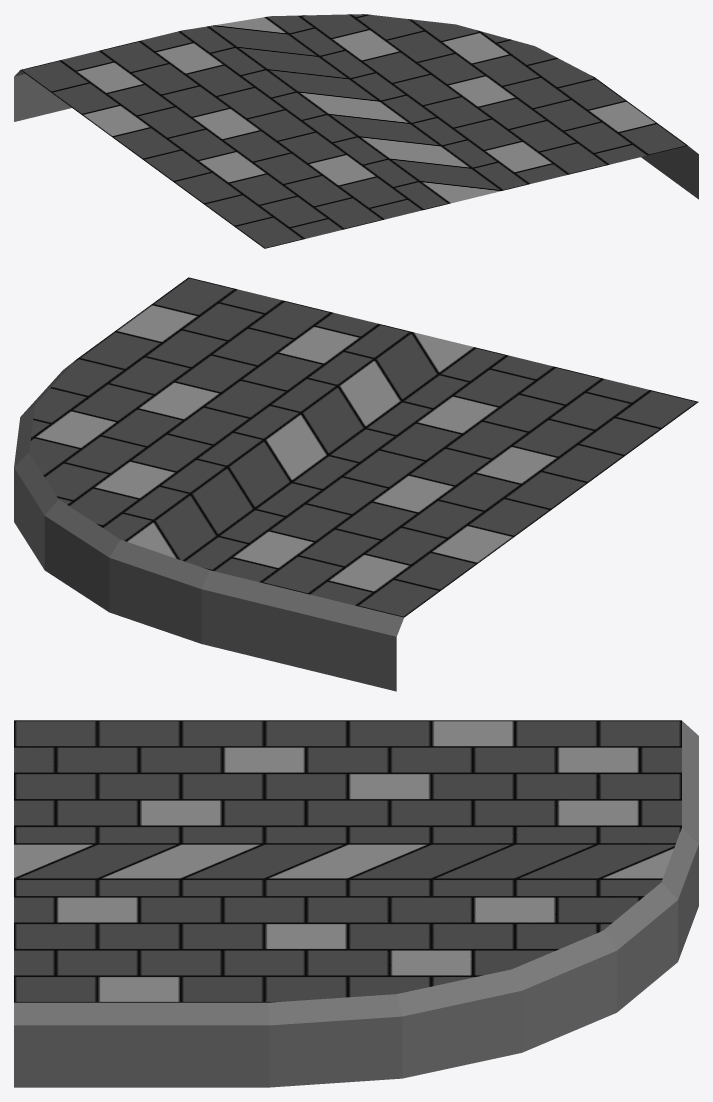
The model's file is External_round_sidewalk.fbx.
3 views of the same model, one above another, from view 1: azimuth 30°, elevation 25°; view 2: azimuth 150°, elevation 25°; view 3: azimuth 270°, elevation 25° (orthographic). The views are drawn at different scales.
Visible parts, largest first — view 1: Esquina redonda; view 2: Esquina redonda; view 3: Esquina redonda.
Part boxes in pixels (<box>): Esquina redonda: <box>14,14,698,248</box>; Esquina redonda: <box>14,277,698,691</box>; Esquina redonda: <box>14,720,698,1087</box>.
Size of the model in its own units: 800 by 100 by 800.
